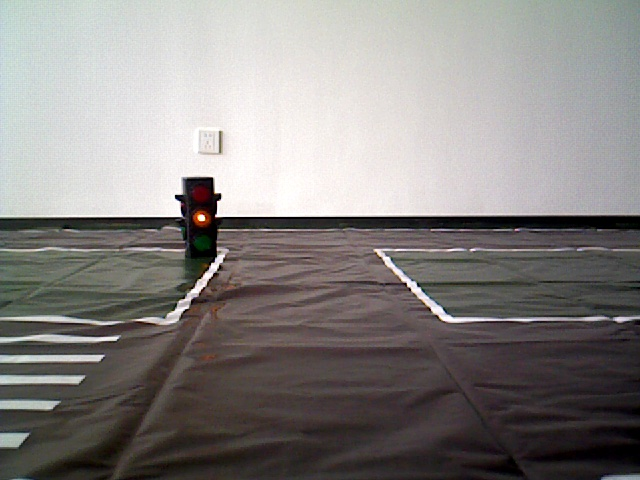yellow: (177, 174, 220, 255)
